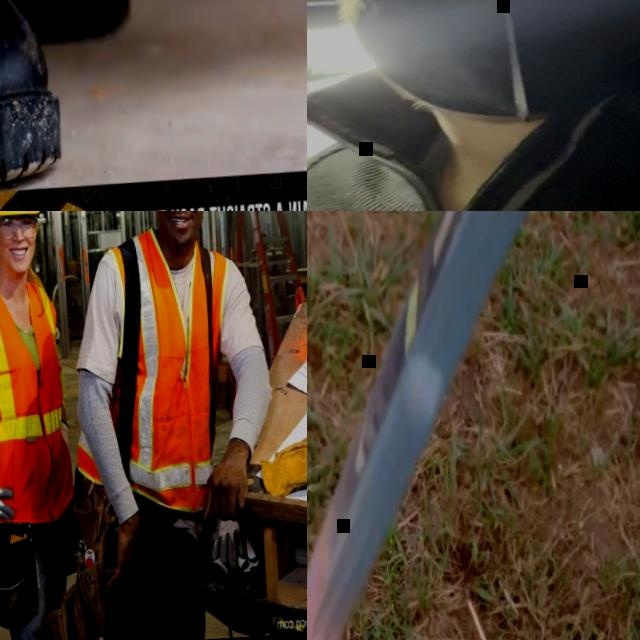Mask: (341, 0, 640, 131)
NO-Mask: (159, 211, 203, 248), (2, 239, 35, 274)
NO-Safety Vest: (307, 58, 640, 211)
Person: (60, 211, 284, 640), (307, 0, 640, 211), (0, 0, 307, 193), (0, 211, 85, 640)
Safety Vest: (60, 225, 246, 524), (0, 271, 79, 528)
